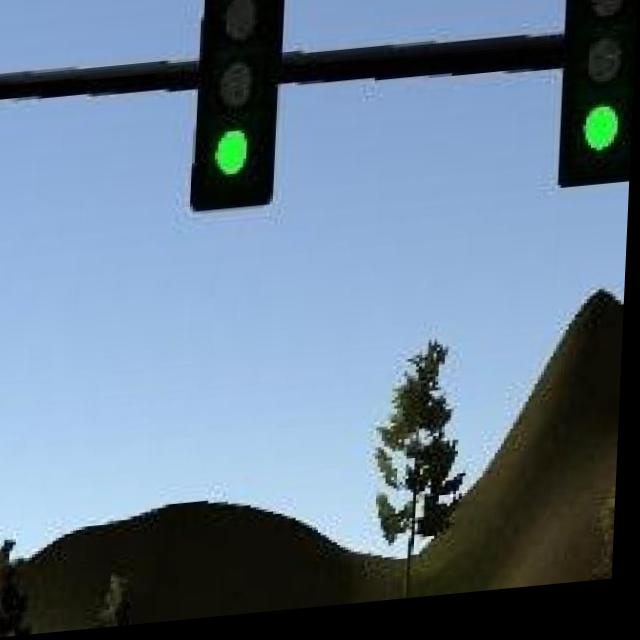green light: (195, 0, 283, 216), (560, 0, 640, 197)
